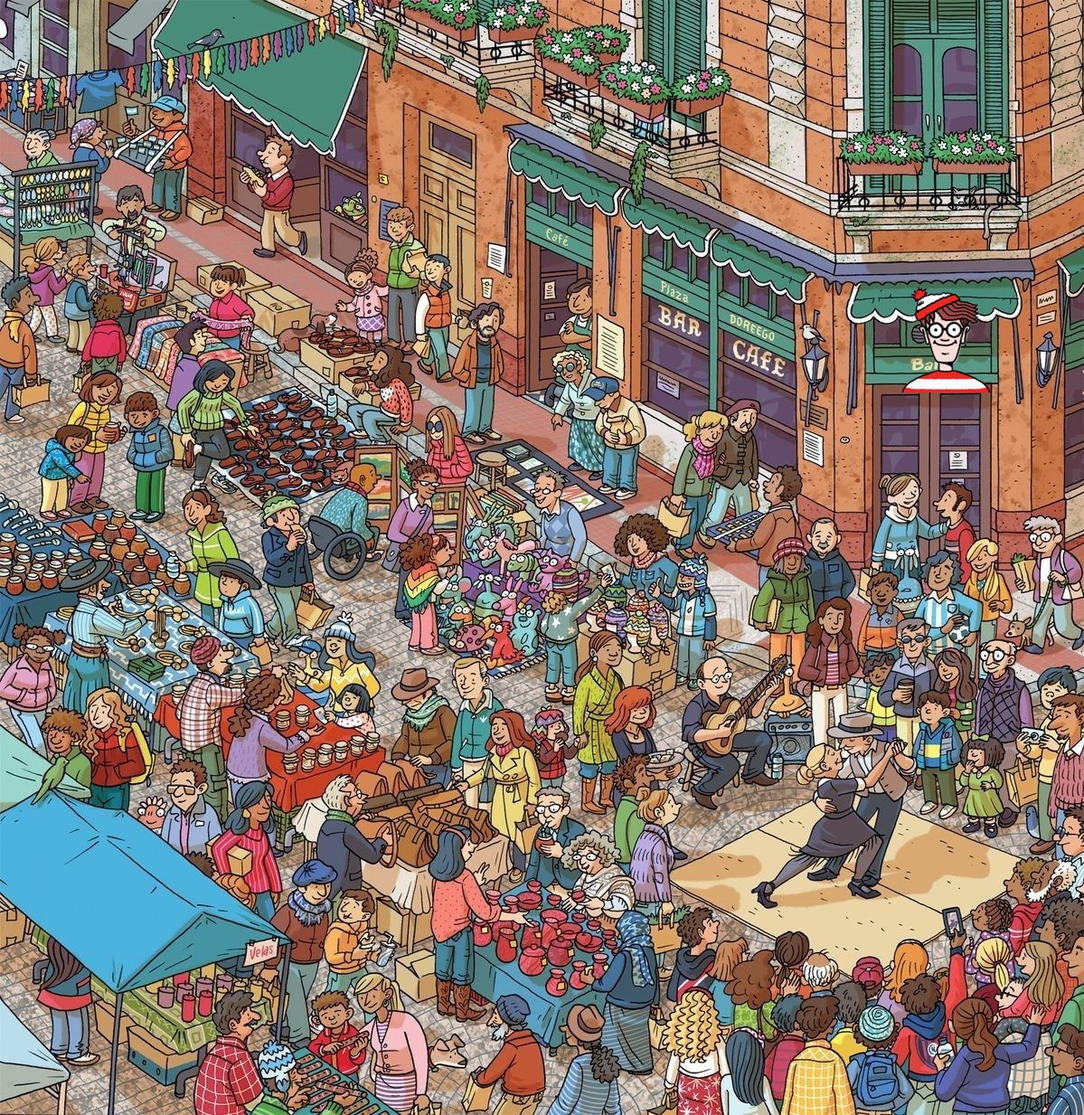waldo: (900, 287, 991, 392)
